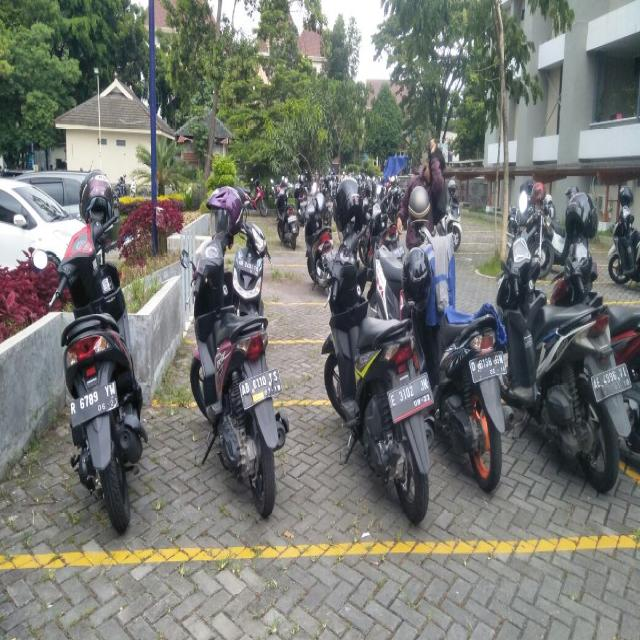plate: (69, 381, 117, 421), (387, 372, 431, 409), (238, 368, 283, 403), (469, 350, 506, 381), (591, 366, 631, 389), (238, 257, 257, 275), (320, 245, 335, 262), (287, 213, 295, 221)
